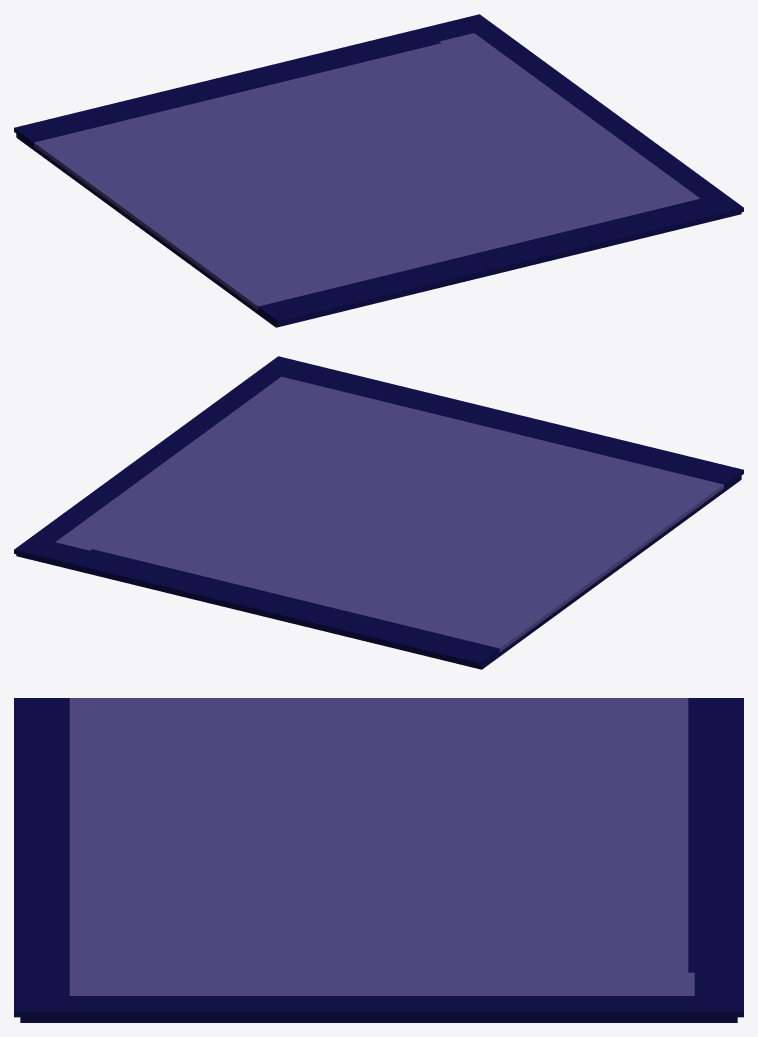
File: escena nave interior-7-navedelantera.obj
The picture shows the model from 3 angles, top to bottom: view 1: azimuth 30°, elevation 25°; view 2: azimuth 150°, elevation 25°; view 3: azimuth 270°, elevation 25°; orthographic projection. The views are drawn at different scales.
Visible parts, largest first — view 1: navedelantera; view 2: navedelantera; view 3: navedelantera.
Part boxes in pixels (x1,y1,x2,y2): navedelantera: [14, 14, 743, 327]; navedelantera: [14, 356, 743, 669]; navedelantera: [14, 698, 743, 1022].
Size of the model in its own units: 12 by 0.2 by 11.8.
1 material, 1 textured.
